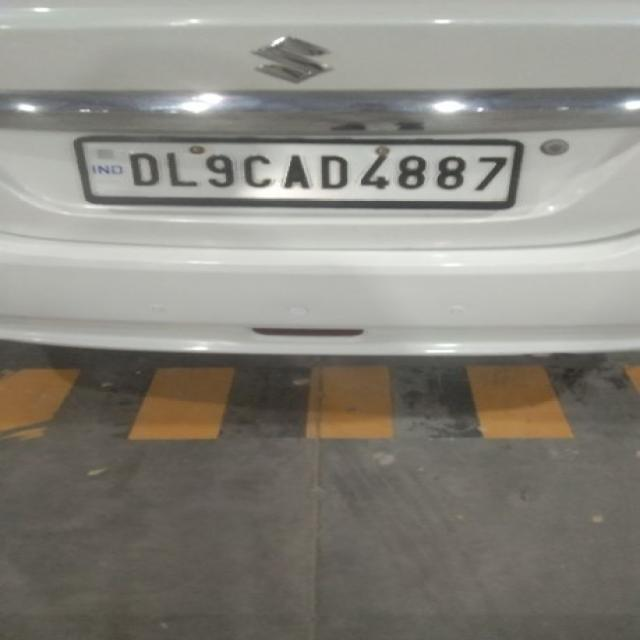license_plate: (0, 0, 639, 357), (72, 134, 524, 210)
